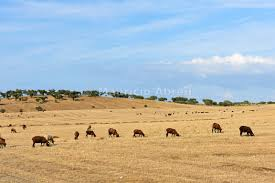sheep: (30, 134, 50, 149), (238, 125, 255, 137), (108, 126, 120, 138), (166, 128, 180, 138), (212, 122, 223, 134), (85, 129, 97, 138), (133, 129, 145, 138), (73, 130, 80, 141)
